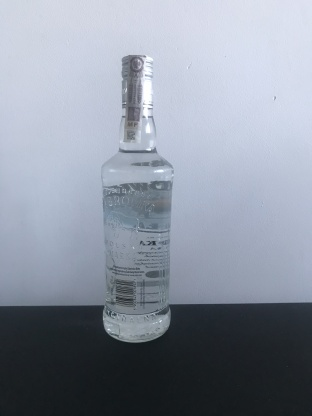nakretka: (118, 50, 155, 111)
